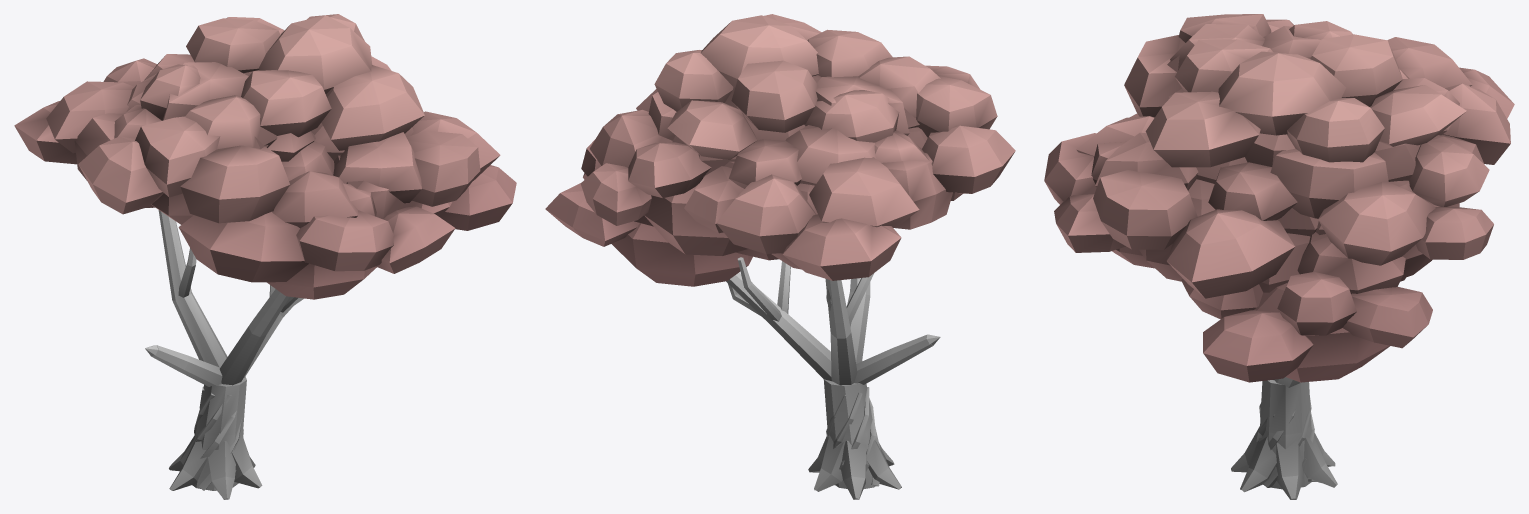
The model's file is chestnut_tree_b.glb.
3 renders of one model, left to right at view 1: azimuth 30°, elevation 25°; view 2: azimuth 150°, elevation 25°; view 3: azimuth 270°, elevation 25°, orthographic. The views are drawn at different scales.
Parts seen in each view (by area): view 1: Chestnut_Leaves, Chestnut_Bark; view 2: Chestnut_Leaves, Chestnut_Bark; view 3: Chestnut_Leaves, Chestnut_Bark.
Part boxes in pixels (x1,y1,x2,y2): Chestnut_Leaves: [14, 14, 516, 299]; Chestnut_Bark: [145, 210, 303, 499]; Chestnut_Leaves: [545, 14, 1015, 286]; Chestnut_Bark: [726, 257, 940, 499]; Chestnut_Leaves: [1044, 14, 1514, 382]; Chestnut_Bark: [1231, 377, 1337, 499].
Bounding box in the file's own units: 10.2 × 10.01 × 9.03.
